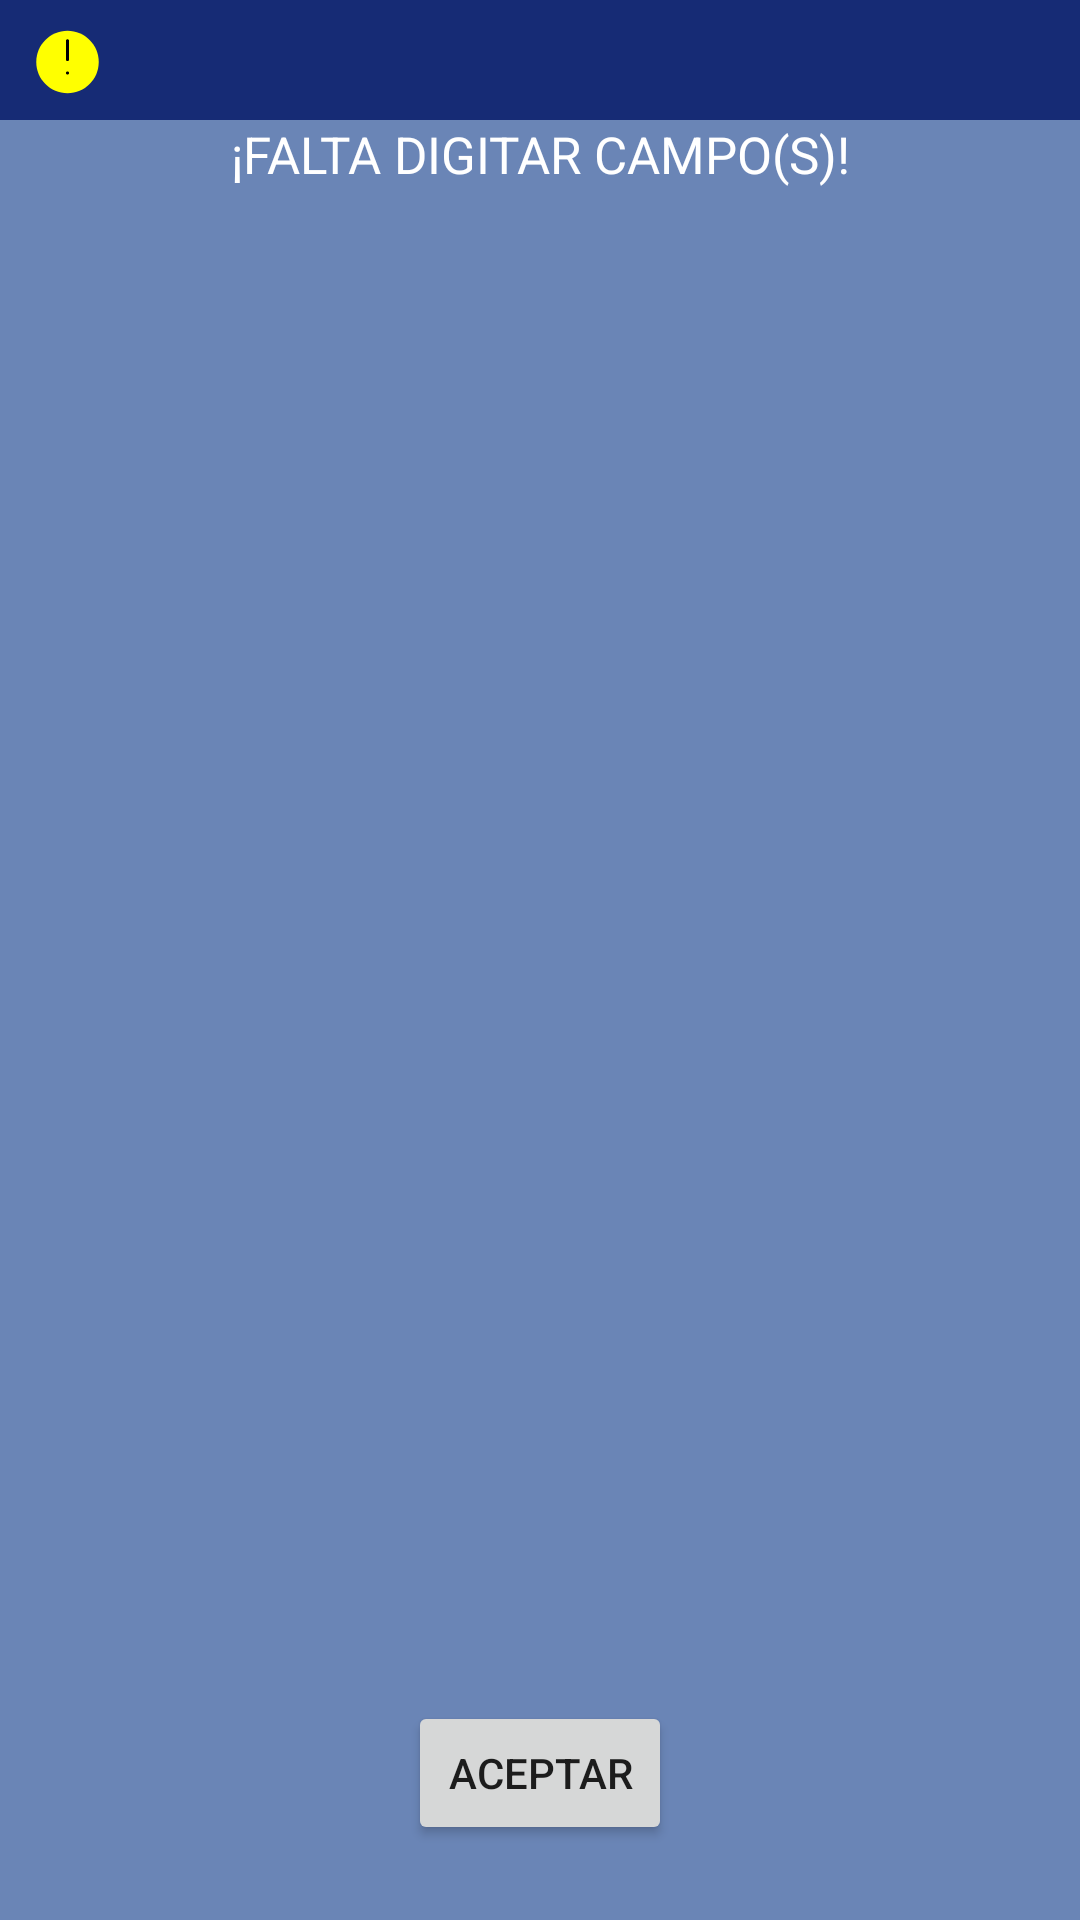

Point at icon controls on the screen. Image size 1080 x 1920, points as point (x, y).
alert: point (67, 62)
